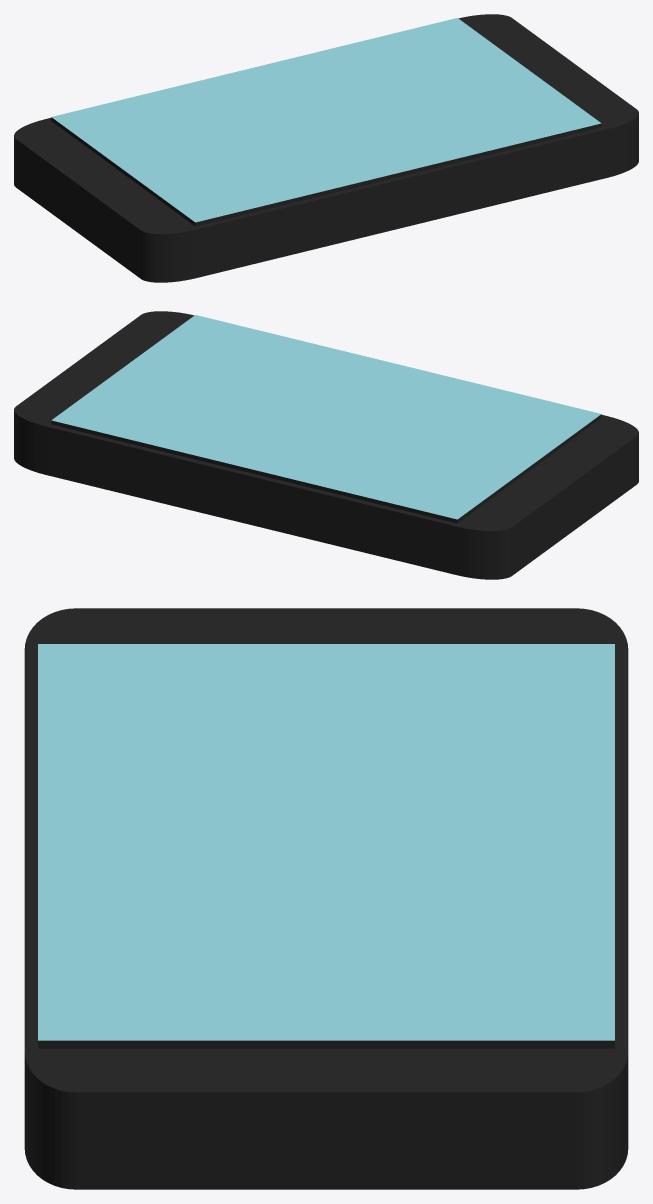
File: Phone.glb
The picture shows the model from 3 angles, top to bottom: view 1: azimuth 30°, elevation 25°; view 2: azimuth 150°, elevation 25°; view 3: azimuth 270°, elevation 25°; orthographic projection. The views are drawn at different scales.
Visible parts, largest first — view 1: RealPhone; view 2: RealPhone; view 3: RealPhone.
Boxes of the visible parts, x1,y1,x2,y2 form: RealPhone: [14, 14, 638, 282]; RealPhone: [14, 311, 638, 579]; RealPhone: [24, 608, 628, 1189].
Bounding box in the file's own units: 1.65 × 0.1675 × 0.8716.
